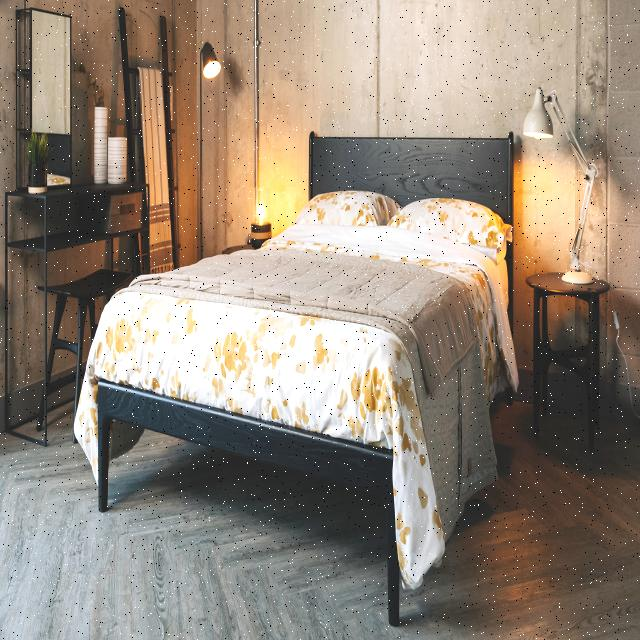bed: (88, 124, 521, 538)
